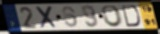2: (19, 6, 38, 29)
6: (62, 6, 80, 29)
9: (81, 4, 100, 29)
D: (121, 5, 142, 28)
O: (101, 5, 125, 29)
X: (35, 5, 60, 30)
